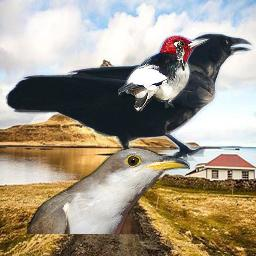Crow: (5, 32, 255, 180)
Cuckoo: (27, 147, 190, 234)
Woodpecker: (118, 35, 211, 112), (172, 40, 187, 71)
